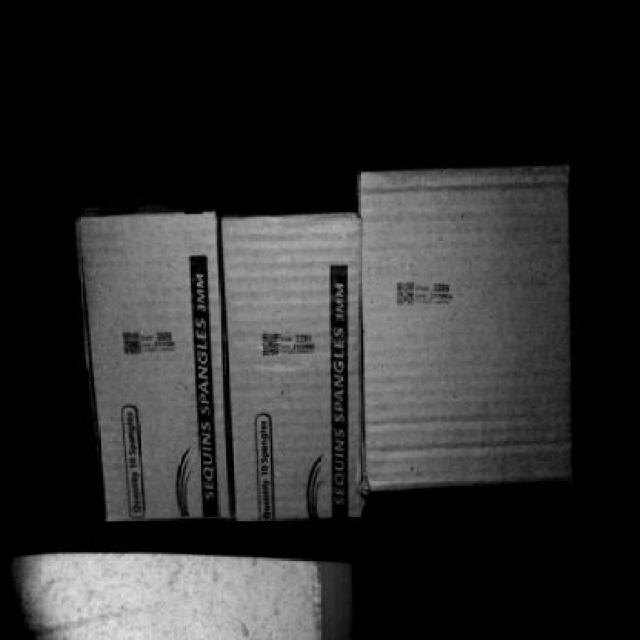cardboxes: (360, 170, 574, 490), (79, 211, 236, 517), (224, 215, 364, 519)
